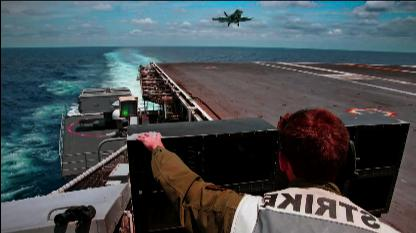F15: (211, 8, 253, 26)
